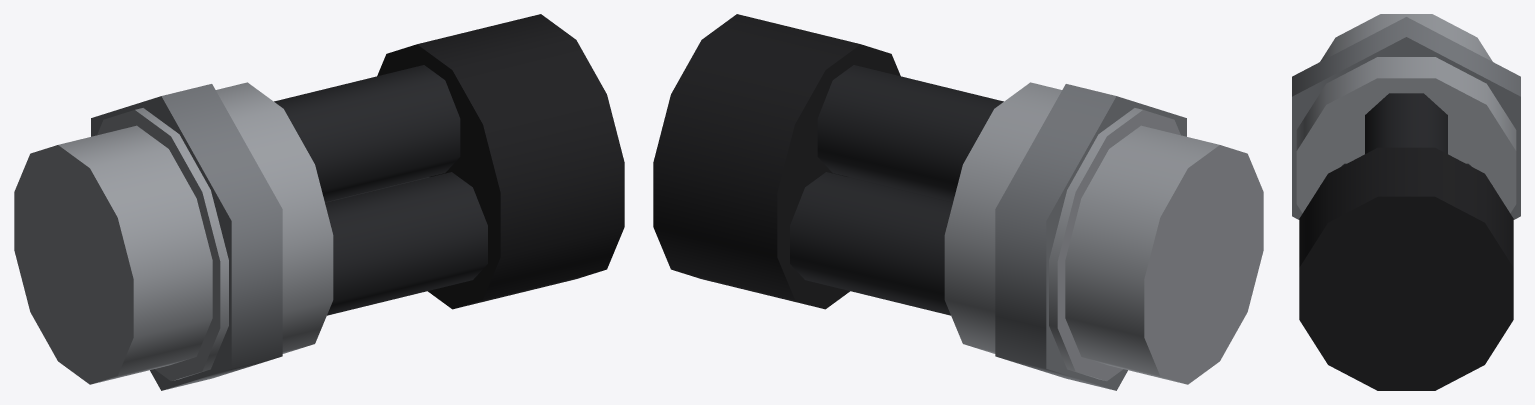
File: end_plug_west.obj
3 views of the same model, side by side, from view 1: azimuth 30°, elevation 25°; view 2: azimuth 150°, elevation 25°; view 3: azimuth 270°, elevation 25° (orthographic). The views are drawn at different scales.
Visible parts, largest first — view 1: end_plug_west; view 2: end_plug_west; view 3: end_plug_west.
Boxes of the visible parts, box(x1,y1,x2,y2) form: end_plug_west: box(14, 14, 624, 390); end_plug_west: box(653, 14, 1263, 390); end_plug_west: box(1292, 14, 1520, 390).
Bounding box in the file's own units: 0.5375 × 0.3125 × 0.2706.
